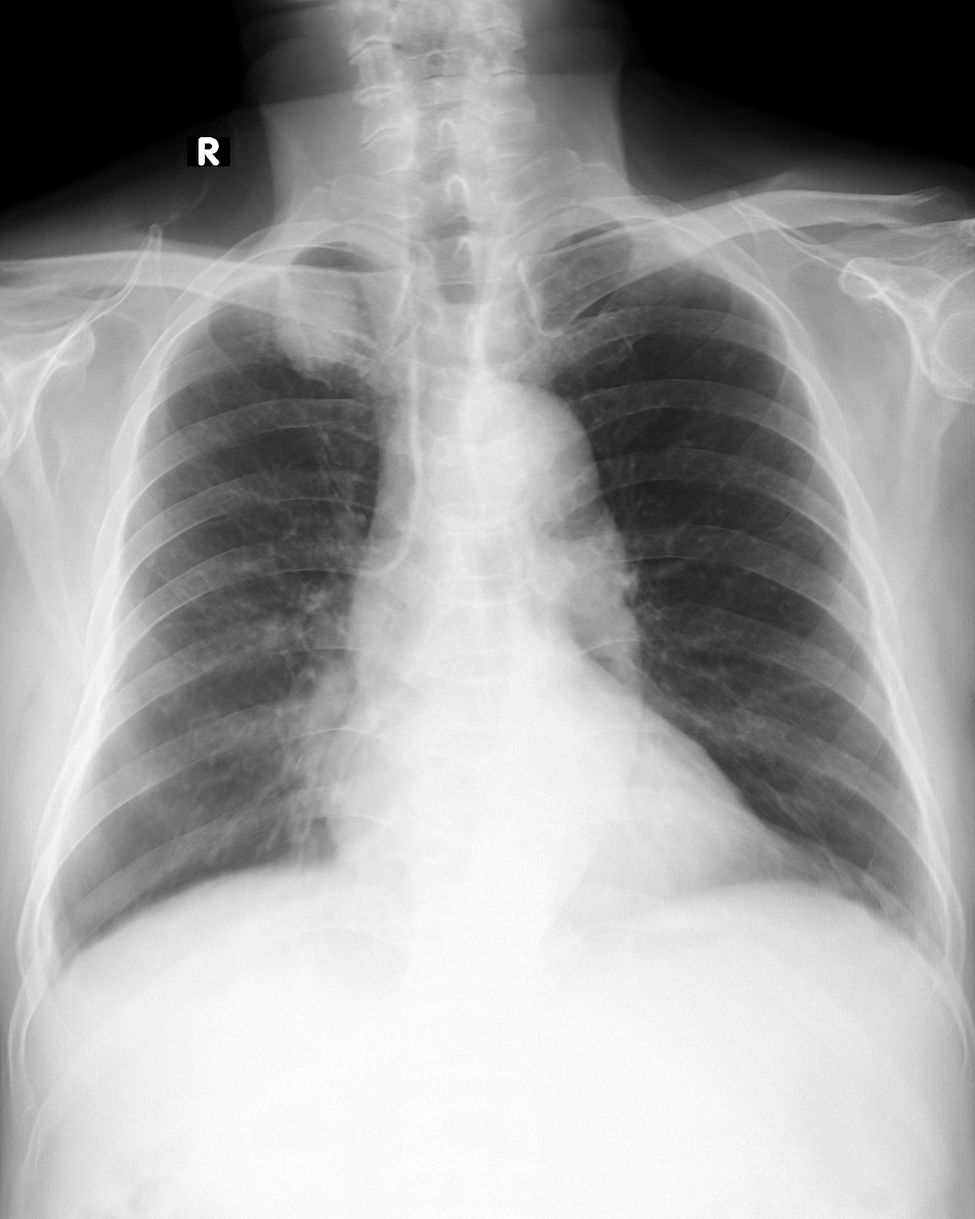Aortic enlargement: (461, 379, 603, 580)
Cardiomegaly: (317, 703, 784, 877)
Pulmonary fibrosis: (855, 867, 921, 933)
